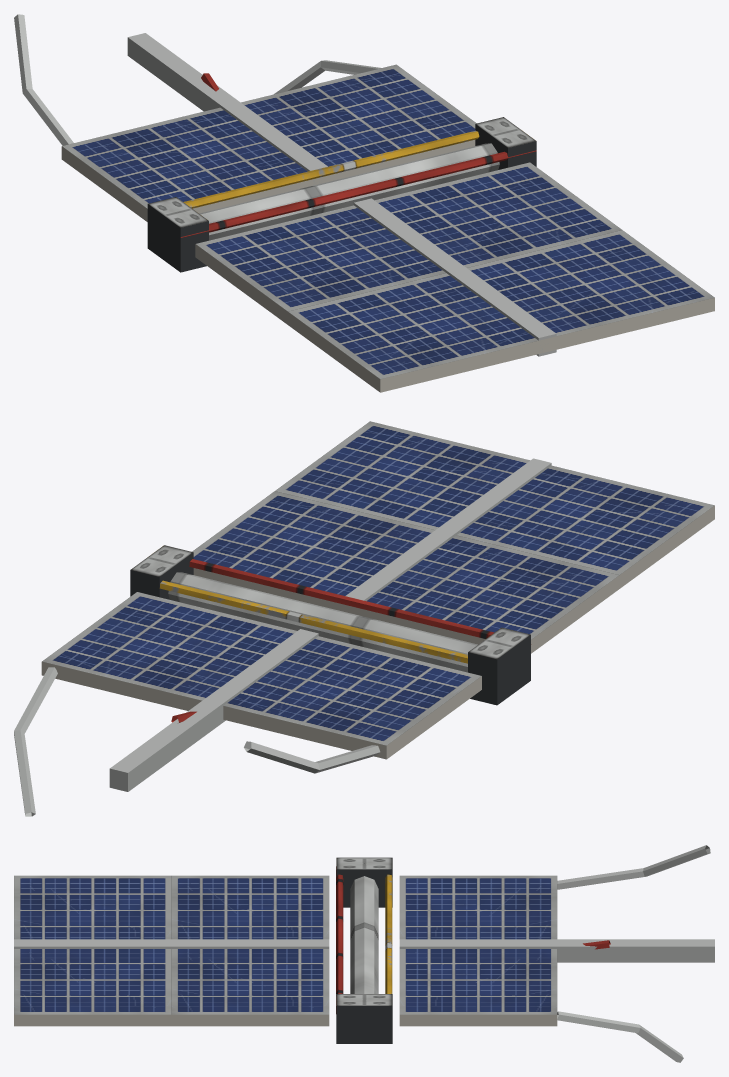
Rendered from wing_solar_torn.fbx.
The picture shows the model from 3 angles, top to bottom: view 1: azimuth 30°, elevation 25°; view 2: azimuth 150°, elevation 25°; view 3: azimuth 270°, elevation 25°; orthographic projection. The views are drawn at different scales.
Parts seen in each view (by area): view 1: wing_solar_torn; view 2: wing_solar_torn; view 3: wing_solar_torn.
Part boxes in pixels (x1,y1,x2,y2): wing_solar_torn: (14, 14, 714, 392); wing_solar_torn: (14, 421, 714, 816); wing_solar_torn: (14, 845, 714, 1062).
Bounding box in the file's own units: 1 × 0.3809 × 2.
Materials: 1 (1 with a texture image).
